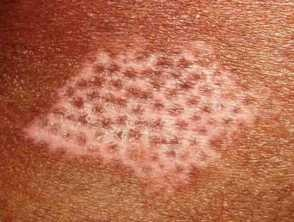Melasma: (12, 17, 271, 200)
